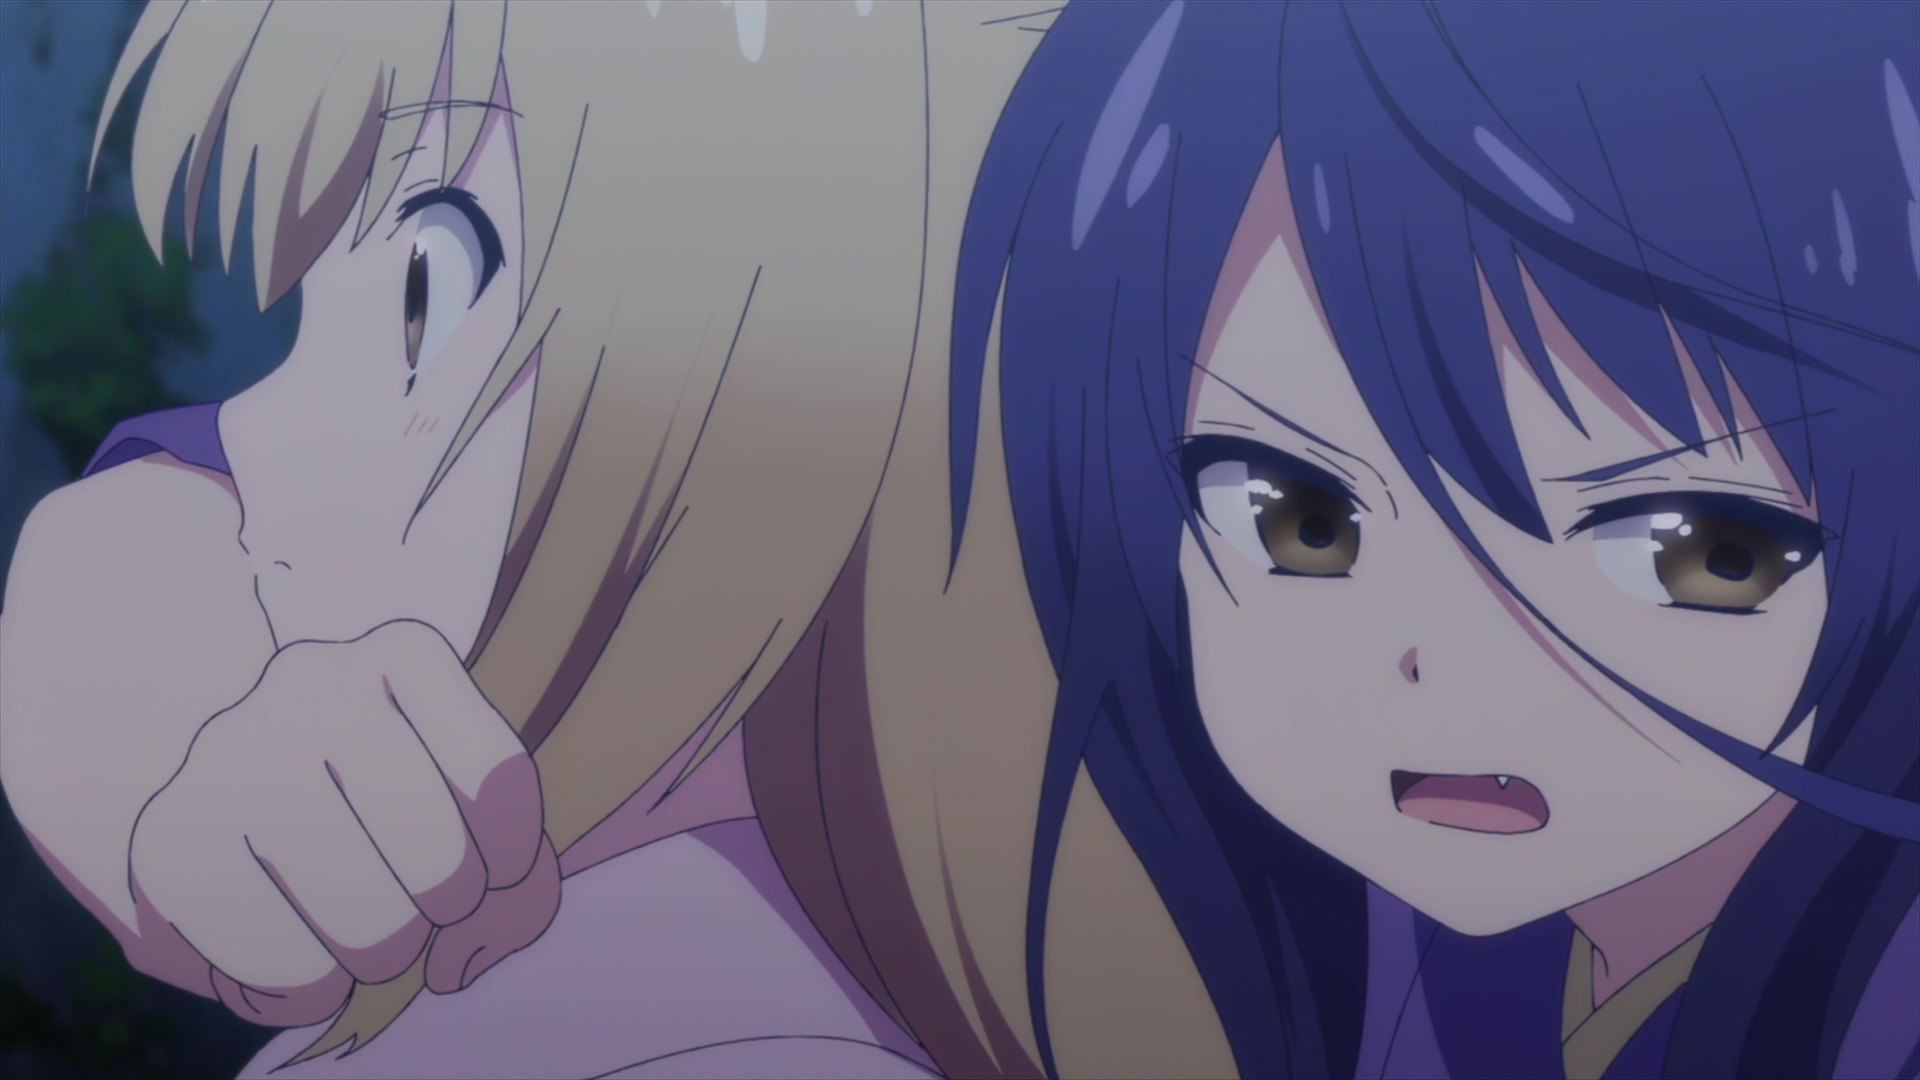柚: (80, 1, 1244, 1080)
皋: (1, 1, 1920, 1080)
